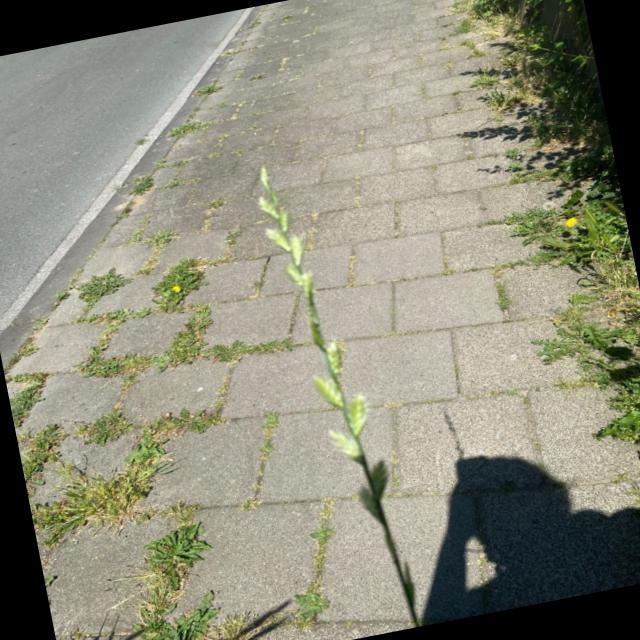Lolium: (243, 150, 426, 640)
